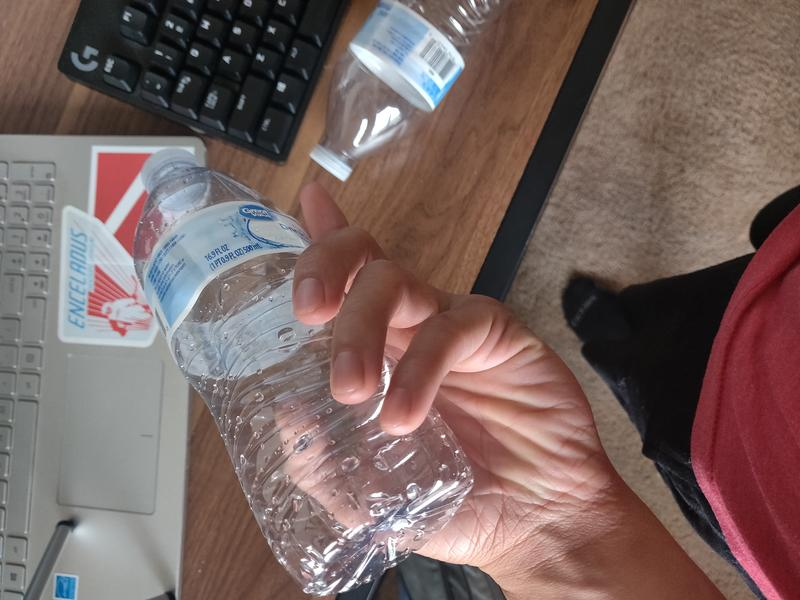bottle: (133, 147, 473, 596), (308, 1, 503, 183)
